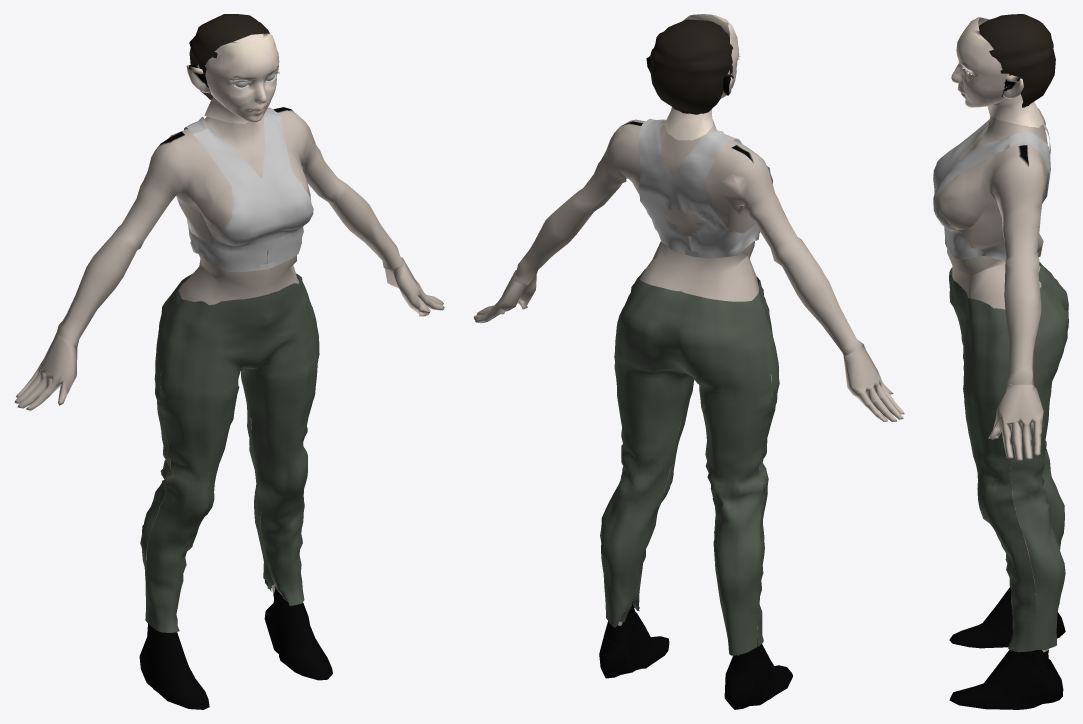
3 views of the same model, side by side, from view 1: azimuth 30°, elevation 25°; view 2: azimuth 150°, elevation 25°; view 3: azimuth 270°, elevation 25° (orthographic).
Visible parts, largest first — view 1: Plane, body, Plane.001, body.004, body.003, body.002; view 2: Plane, body, Plane.001, body.002, body.004, body.003; view 3: Plane, body, body.004, body.003, body.002, Plane.001.
Part boxes in pixels (bbox=[...]): Plane: bbox=[140, 273, 319, 632]; body: bbox=[14, 107, 444, 634]; Plane.001: bbox=[184, 107, 313, 271]; body.004: bbox=[139, 590, 332, 709]; body.003: bbox=[186, 33, 279, 123]; body.002: bbox=[189, 14, 269, 99]; Plane: bbox=[600, 269, 779, 655]; body: bbox=[473, 119, 904, 659]; Plane.001: bbox=[638, 118, 772, 258]; body.002: bbox=[650, 19, 732, 114]; body.004: bbox=[599, 610, 792, 709]; body.003: bbox=[646, 14, 739, 140]; Plane: bbox=[949, 262, 1068, 652]; body: bbox=[938, 108, 1048, 656]; body.004: bbox=[949, 587, 1065, 709]; body.003: bbox=[951, 17, 1043, 127]; body.002: bbox=[978, 14, 1055, 107]; Plane.001: bbox=[933, 119, 1050, 260].
Size of the model in its own units: 701 by 1029 by 194.
